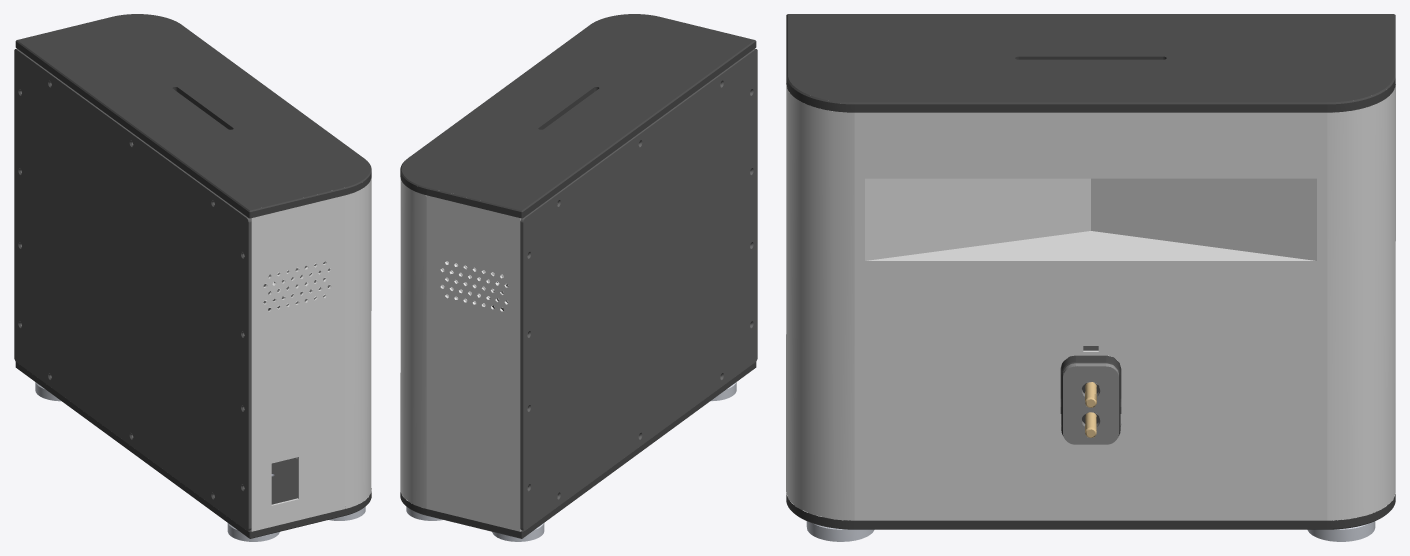
The model's file is charging_station.dae.
The picture shows the model from 3 angles, left to right: view 1: azimuth 30°, elevation 25°; view 2: azimuth 150°, elevation 25°; view 3: azimuth 270°, elevation 25°; orthographic projection. The views are drawn at different scales.
Visible parts, largest first — view 1: former_charging_station; view 2: former_charging_station; view 3: former_charging_station.
Boxes of the visible parts, x1,y1,x2,y2 form: former_charging_station: [14, 14, 371, 541]; former_charging_station: [400, 14, 757, 541]; former_charging_station: [786, 14, 1395, 541].
Bounding box in the file's own units: 0.1759 × 0.4023 × 0.326.
4 materials, 1 textured.
